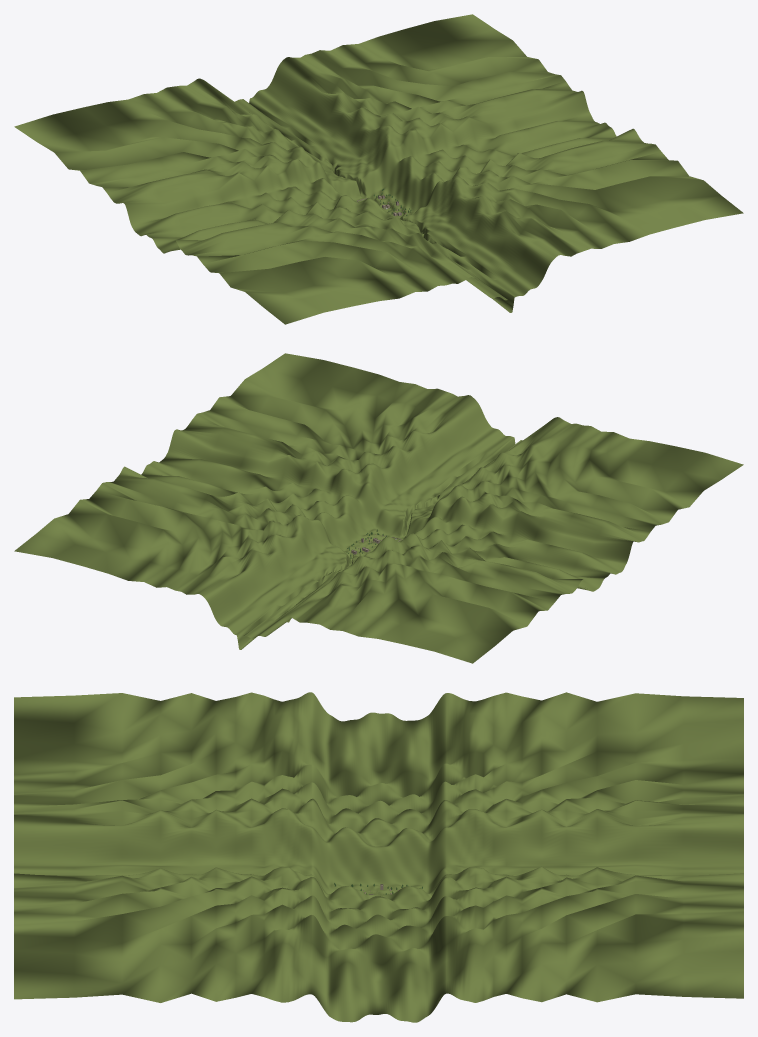
Rendered from Taiz_Highlands.glb.
3 views of the same model, one above another, from view 1: azimuth 30°, elevation 25°; view 2: azimuth 150°, elevation 25°; view 3: azimuth 270°, elevation 25° (orthographic). The views are drawn at different scales.
Parts seen in each view (by area): view 1: Terrain; view 2: Terrain; view 3: Terrain.
Part boxes in pixels (x1,y1,x2,y2): Terrain: [14, 14, 743, 324]; Terrain: [14, 353, 743, 663]; Terrain: [14, 692, 743, 1022].
Bounding box in the file's own units: 1474 × 165 × 1509.
